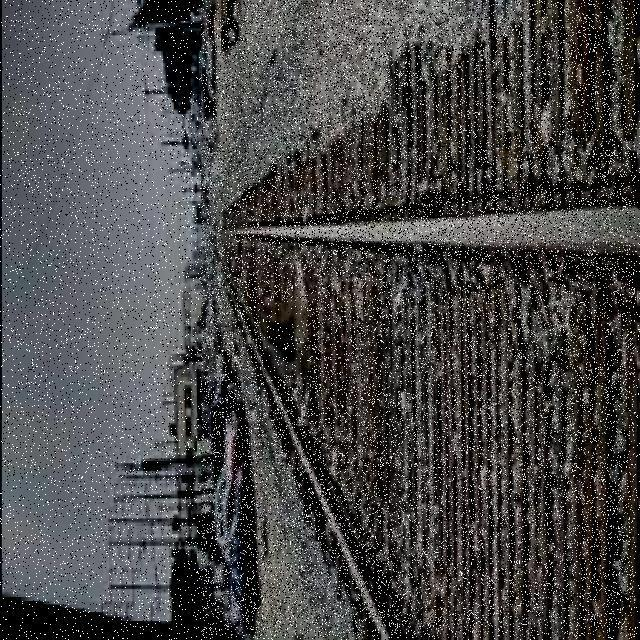danger: (262, 300, 306, 375)
rail: (201, 1, 635, 638)
